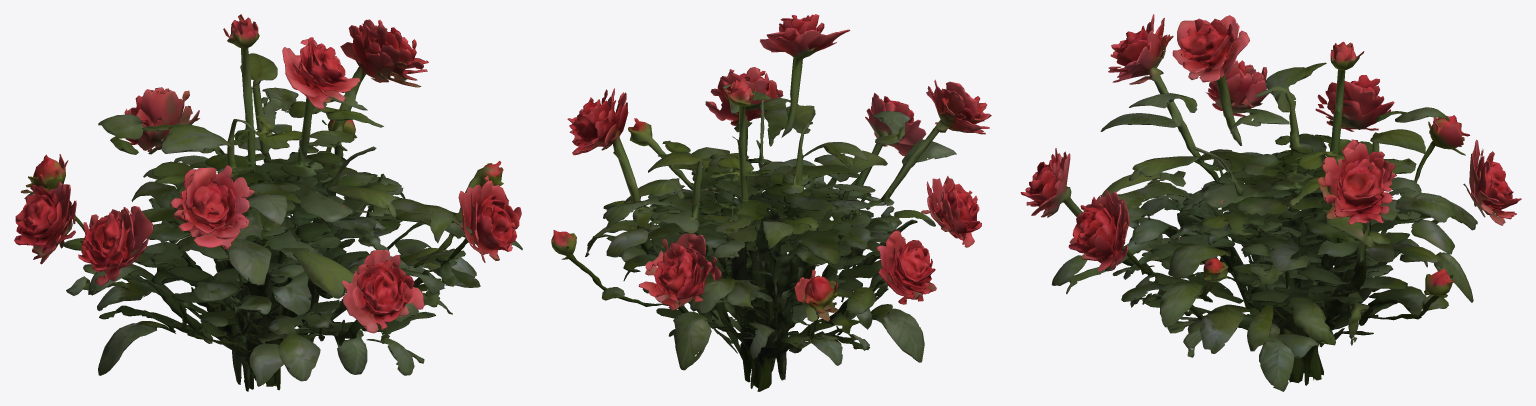
Rendered from nature-flower-rose.glb.
3 views of the same model, side by side, from view 1: azimuth 30°, elevation 25°; view 2: azimuth 150°, elevation 25°; view 3: azimuth 270°, elevation 25° (orthographic). The views are drawn at different scales.
Parts seen in each view (by area): view 1: tripo_node_721b8145-f97f-48c6-b2ad-abe95b3377ae; view 2: tripo_node_721b8145-f97f-48c6-b2ad-abe95b3377ae; view 3: tripo_node_721b8145-f97f-48c6-b2ad-abe95b3377ae.
Boxes of the visible parts, x1,y1,x2,y2 form: tripo_node_721b8145-f97f-48c6-b2ad-abe95b3377ae: [14, 14, 522, 391]; tripo_node_721b8145-f97f-48c6-b2ad-abe95b3377ae: [551, 14, 991, 391]; tripo_node_721b8145-f97f-48c6-b2ad-abe95b3377ae: [1020, 14, 1521, 391].
Bounding box in the file's own units: 1.16 × 1 × 1.27.
Materials: 1 (1 with a texture image).
